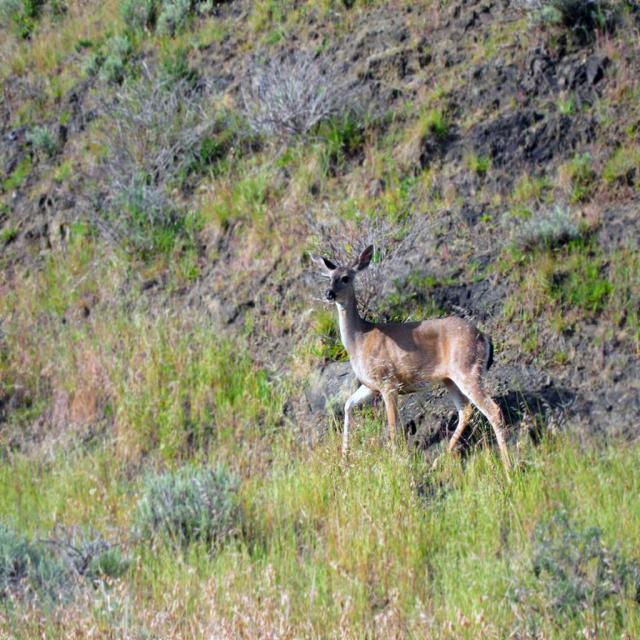Deer: (318, 243, 516, 485)
